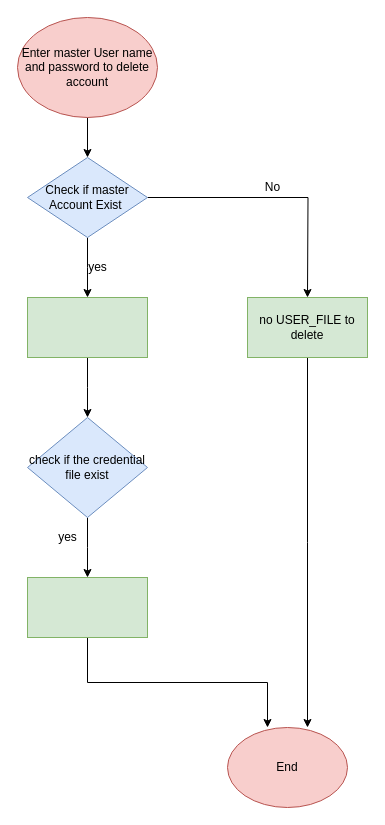
The diagram is 385 pixels wide and 825 high, and some of its shapes have lost their labels. The shapes that lost their labels are listed below. From the top down, each one's centre as x and y in pixels, then its label:
At point (87, 327): "Delete Master Account".
At point (87, 607): "remove credential file".
